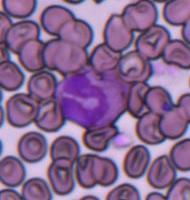E: (57, 65, 128, 128)
